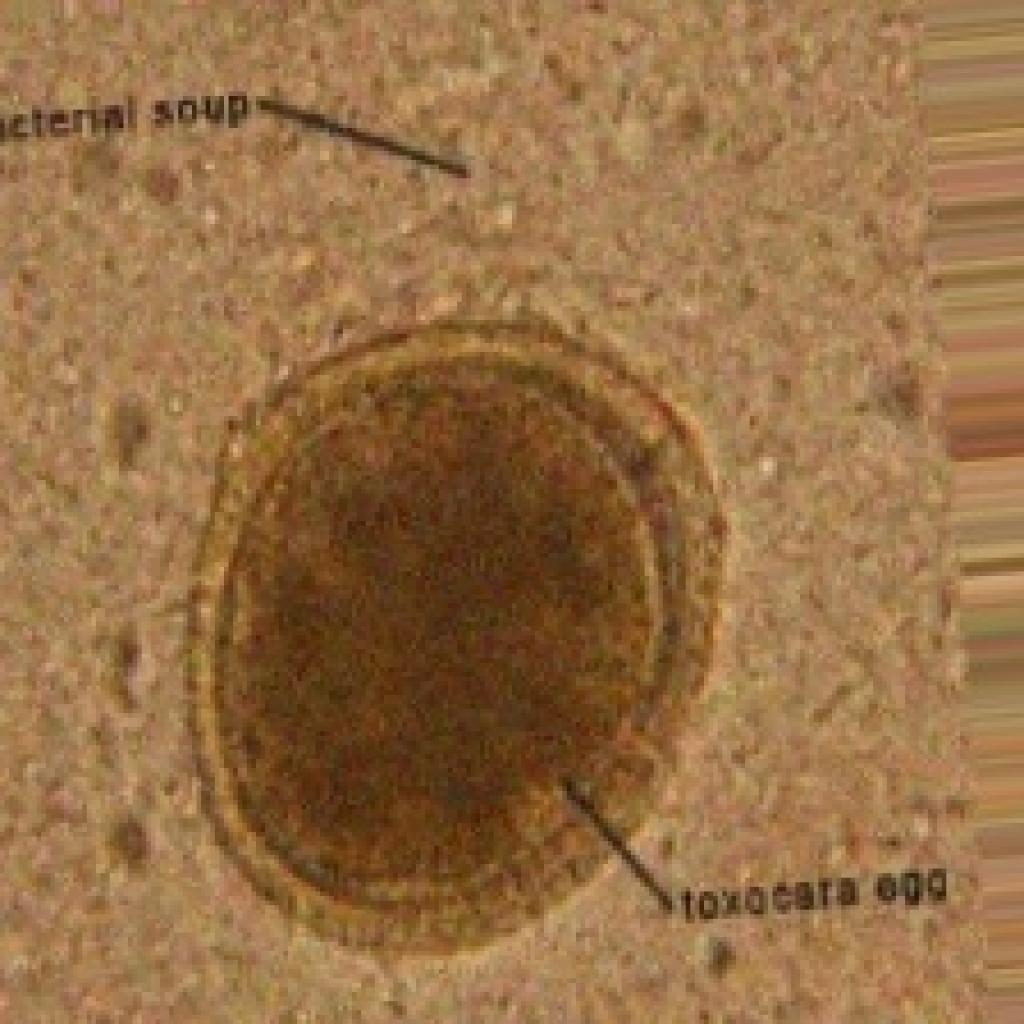Yeast: (178, 302, 732, 955)
